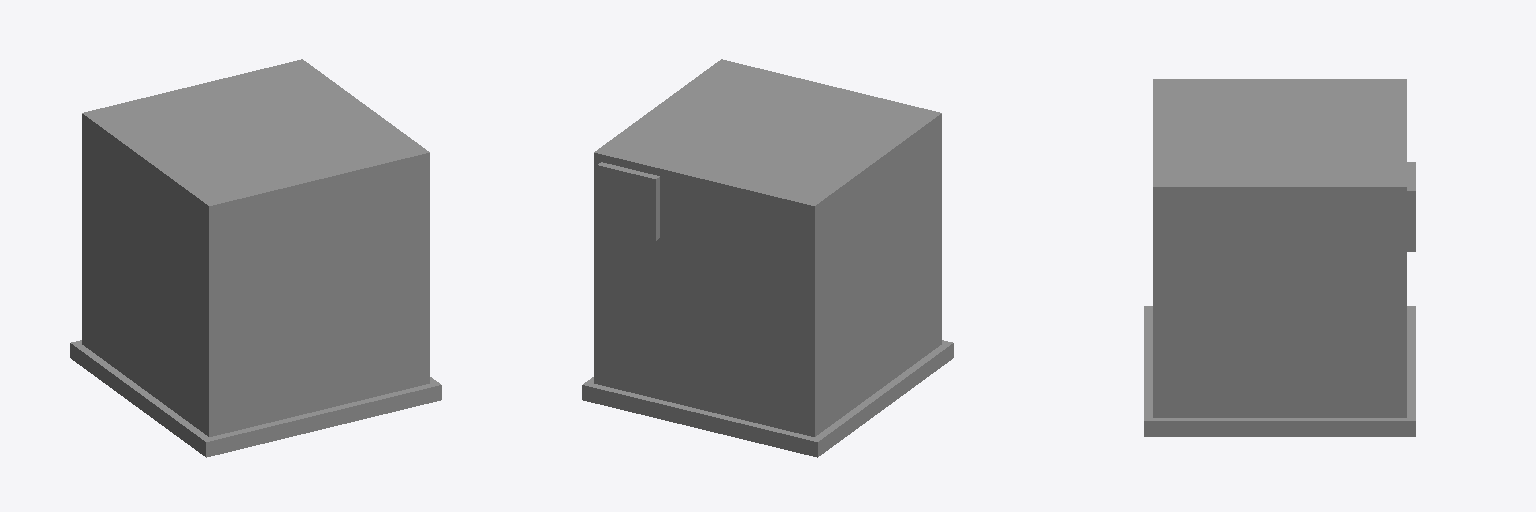
Rendered from quantum_assembler.obj.
3 views of the same model, side by side, from view 1: azimuth 30°, elevation 25°; view 2: azimuth 150°, elevation 25°; view 3: azimuth 270°, elevation 25° (orthographic).
Parts seen in each view (by area): view 1: Safety_Glass_Back, Safety_Glass_Left, Safety_Glass_Top, Plinth_Base_Plate; view 2: Safety_Glass_Front, Safety_Glass_Left, Safety_Glass_Top, Plinth_Base_Plate, Control_Pad; view 3: Safety_Glass_Right, Safety_Glass_Top, Plinth_Base_Plate, Control_Pad.
Part boxes in pixels (x1,y1,x2,y2): Safety_Glass_Back: (209, 153, 429, 436); Safety_Glass_Left: (82, 114, 208, 436); Safety_Glass_Top: (82, 59, 429, 205); Plinth_Base_Plate: (70, 340, 441, 457); Safety_Glass_Front: (594, 153, 814, 436); Safety_Glass_Left: (815, 114, 941, 436); Safety_Glass_Top: (594, 59, 941, 205); Plinth_Base_Plate: (582, 340, 953, 457); Control_Pad: (597, 162, 659, 240); Safety_Glass_Right: (1153, 187, 1406, 417); Safety_Glass_Top: (1153, 79, 1406, 186); Plinth_Base_Plate: (1144, 306, 1415, 436); Control_Pad: (1407, 162, 1415, 251).
Size of the model in its own units: 1 by 1 by 1.